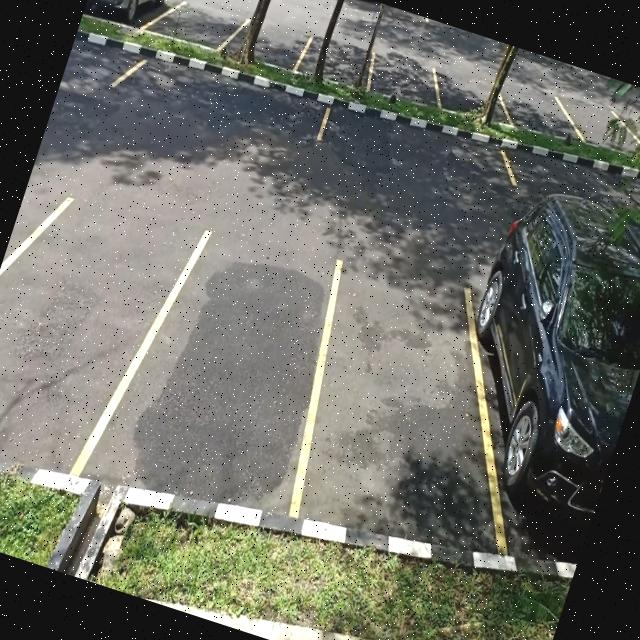empty: (97, 212, 351, 526), (271, 254, 514, 566), (0, 174, 179, 490), (120, 36, 333, 148), (315, 94, 517, 202), (229, 10, 313, 81), (294, 32, 380, 99), (499, 78, 580, 148), (362, 45, 447, 111), (154, 0, 247, 58), (430, 65, 510, 129)
occupied: (411, 259, 640, 575), (83, 0, 179, 37)
